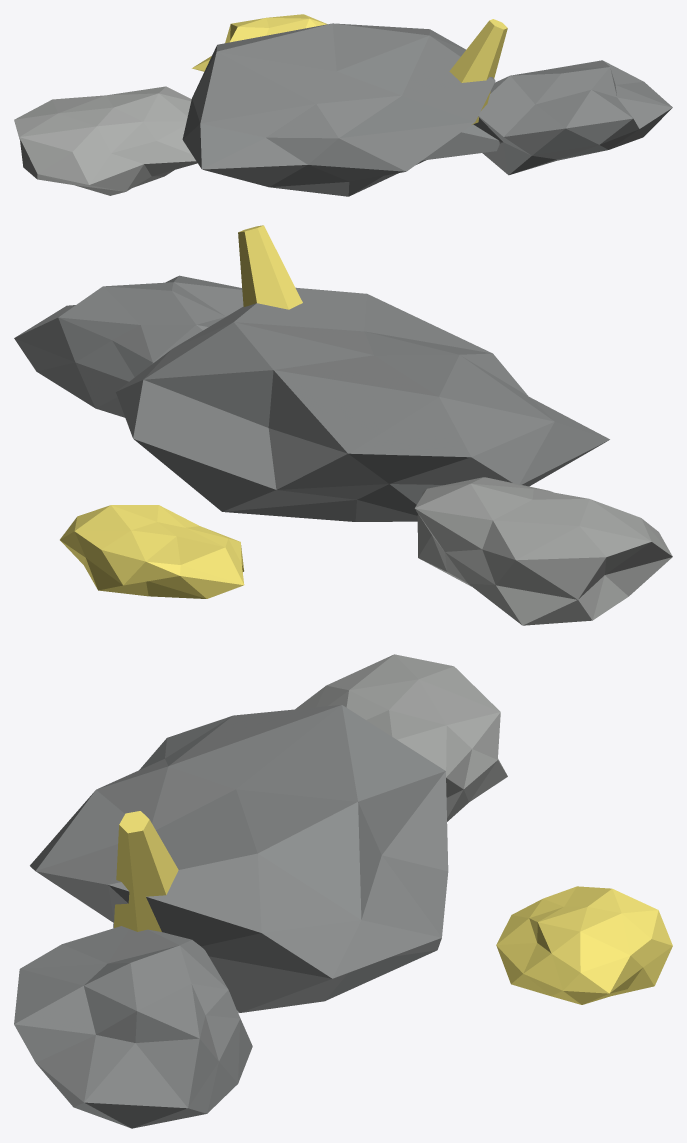
File: t7_ore_depleted.glb
The picture shows the model from 3 angles, top to bottom: view 1: azimuth 30°, elevation 25°; view 2: azimuth 150°, elevation 25°; view 3: azimuth 270°, elevation 25°; orthographic projection. The views are drawn at different scales.
Parts seen in each view (by area): view 1: OreRubbleCenter, OreRubbleLeft, OreRubbleRight, SpentOreShard, OreChip; view 2: OreRubbleCenter, OreRubbleLeft, OreRubbleRight, OreChip, SpentOreShard; view 3: OreRubbleCenter, OreRubbleRight, OreChip, OreRubbleLeft, SpentOreShard.
Boxes of the visible parts, <box> form: OreRubbleCenter: <box>182,23,499,196</box>; OreRubbleLeft: <box>14,86,197,195</box>; OreRubbleRight: <box>473,60,672,175</box>; SpentOreShard: <box>449,19,507,124</box>; OreChip: <box>192,14,327,71</box>; OreRubbleCenter: <box>116,287,609,521</box>; OreRubbleLeft: <box>414,477,672,625</box>; OreRubbleRight: <box>14,275,243,417</box>; OreChip: <box>60,505,244,598</box>; SpentOreShard: <box>238,225,302,309</box>; OreRubbleCenter: <box>30,705,448,1013</box>; OreRubbleRight: <box>14,926,252,1128</box>; OreChip: <box>496,886,672,1004</box>; OreRubbleLeft: <box>295,654,507,821</box>; SpentOreShard: <box>114,811,178,931</box>.
Bounding box in the file's own units: 0.9552 × 0.2367 × 0.6512.
